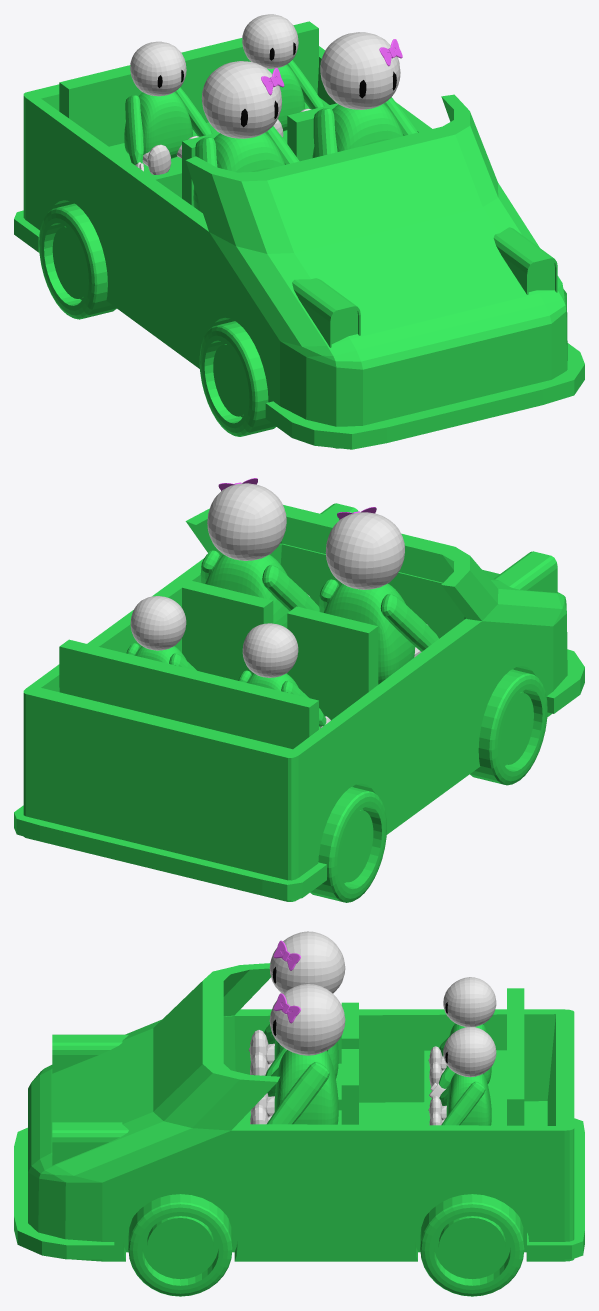
The model's file is Koma.fbx.
3 views of the same model, one above another, from view 1: azimuth 30°, elevation 25°; view 2: azimuth 150°, elevation 25°; view 3: azimuth 270°, elevation 25° (orthographic). The views are drawn at different scales.
Parts seen in each view (by area): view 1: Car, Sub_Chara, Main_Chara, K1, K2; view 2: Car, Main_Chara, Sub_Chara, K1, K2; view 3: Car, Sub_Chara, Main_Chara, K2, K1.
Boxes of the visible parts, left/top/right/bottom form: Car: left=14, top=21, right=584, bottom=449; Sub_Chara: left=312, top=32, right=417, bottom=158; Main_Chara: left=193, top=61, right=299, bottom=212; K1: left=124, top=41, right=212, bottom=174; K2: left=242, top=14, right=324, bottom=137; Car: left=14, top=503, right=584, bottom=902; Main_Chara: left=319, top=512, right=438, bottom=684; Sub_Chara: left=200, top=483, right=319, bottom=628; K1: left=238, top=623, right=330, bottom=728; K2: left=126, top=596, right=197, bottom=670; Car: left=14, top=963, right=584, bottom=1296; Sub_Chara: left=250, top=984, right=345, bottom=1124; Main_Chara: left=248, top=931, right=345, bottom=1078; K2: left=428, top=1026, right=496, bottom=1125; K1: left=428, top=977, right=496, bottom=1097.
Bounding box in the file's own units: 450 × 432 × 829.
